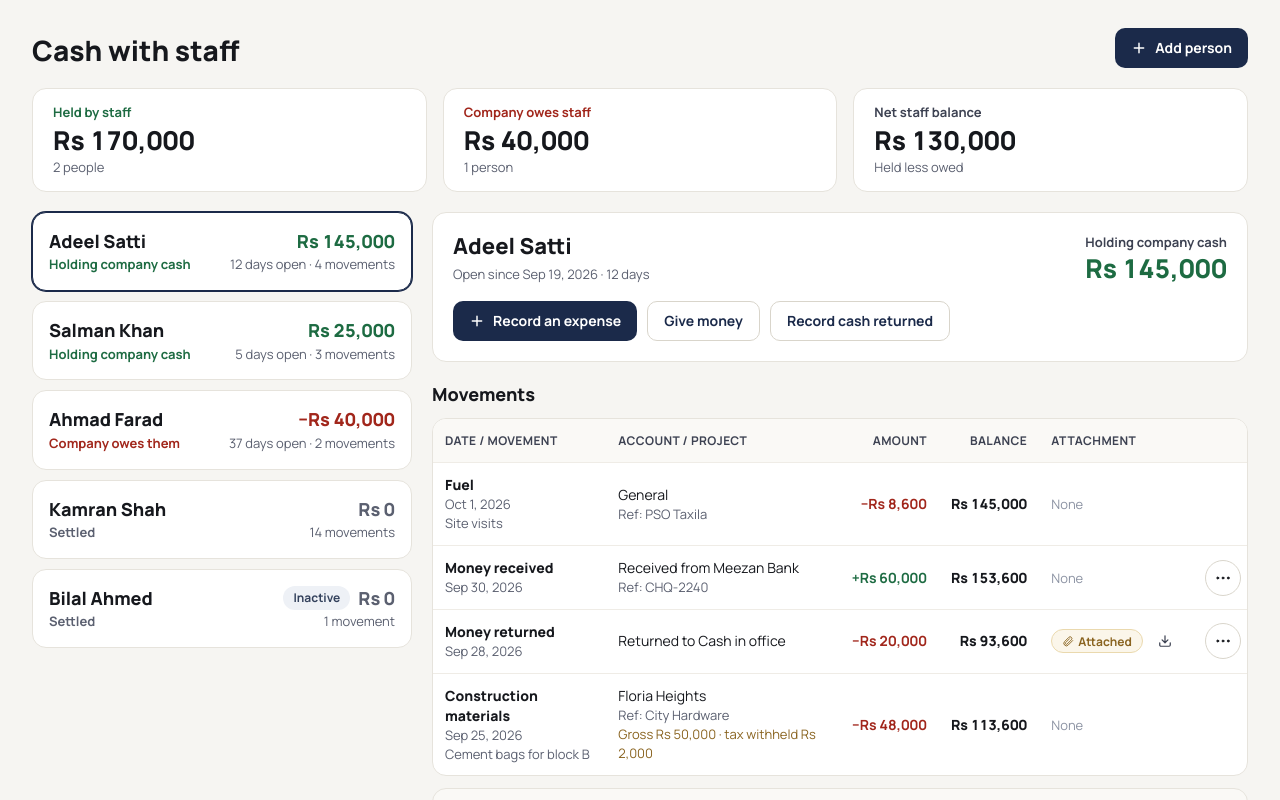
Scenario: Cash with staff: the open person › fills in what the person holds when cash comes back, and turns money moves off for an inactive person
Click the button "Record cash returned" at (860, 320), box [770,300,950,340]
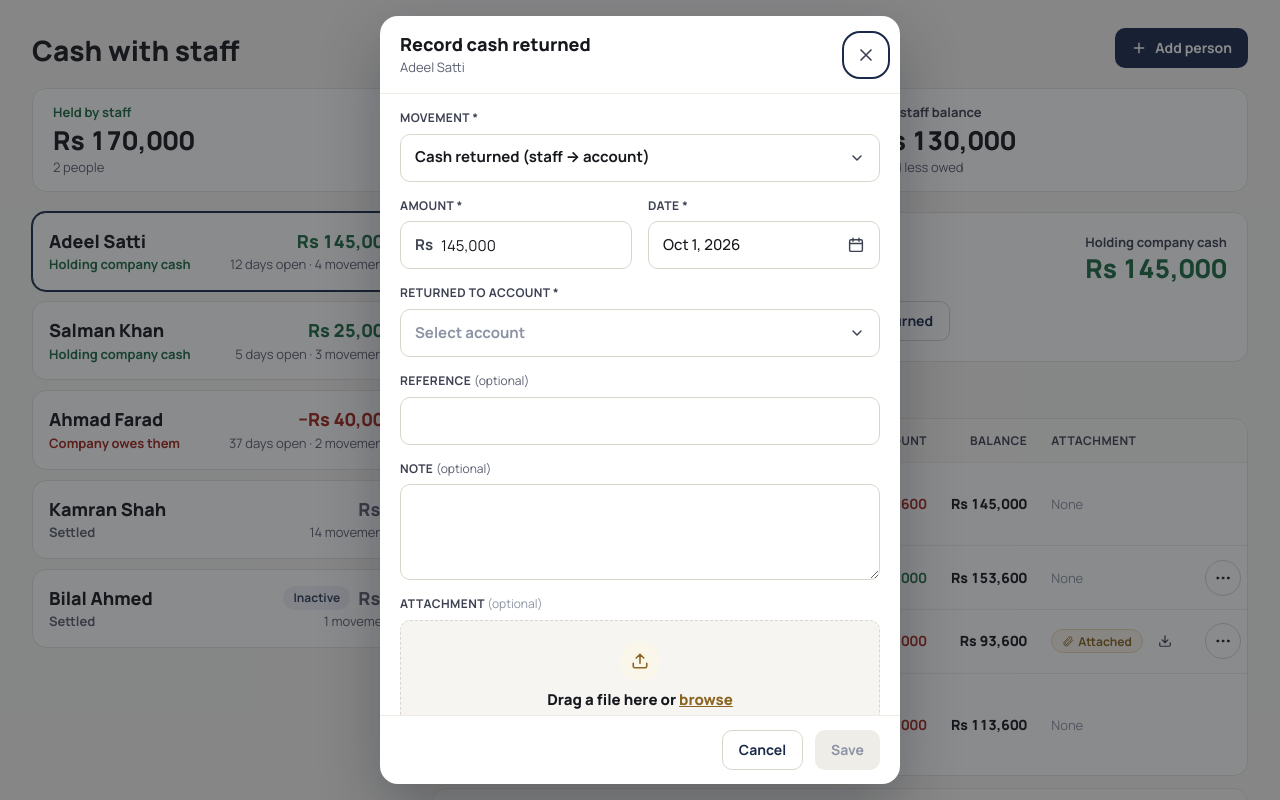
Expected: the text "Record cash returned" is shown, [400,32,591,56]
Expected: the field labelled "Amount *" holds "145,000", [441,222,617,268]
Expected: the dropdown named "Returned to account" is shown, [400,309,880,357]
Click the button "Cancel" at (763, 750), box [722,730,803,770]
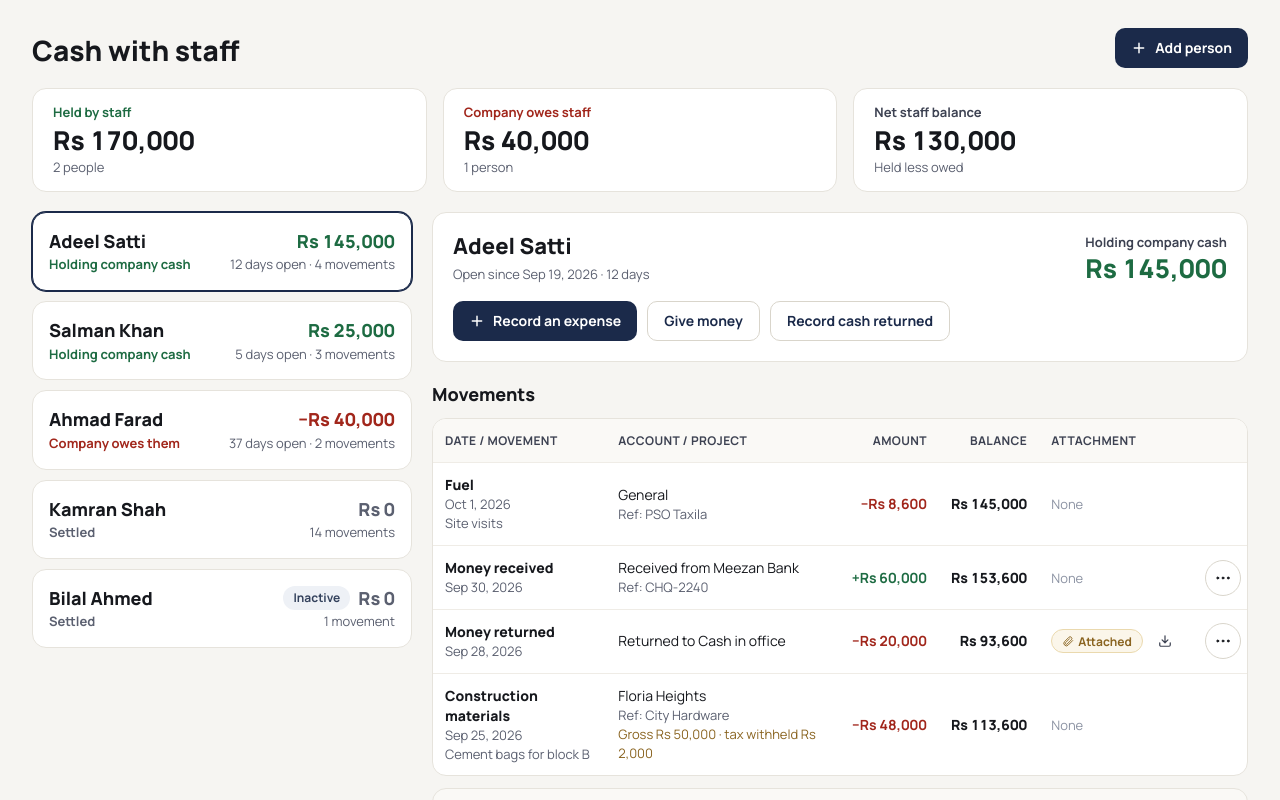
Click the button "Bilal Ahmed Inactive Rs 0 Settled 1 movement" at (101, 598), box [32,569,412,648]
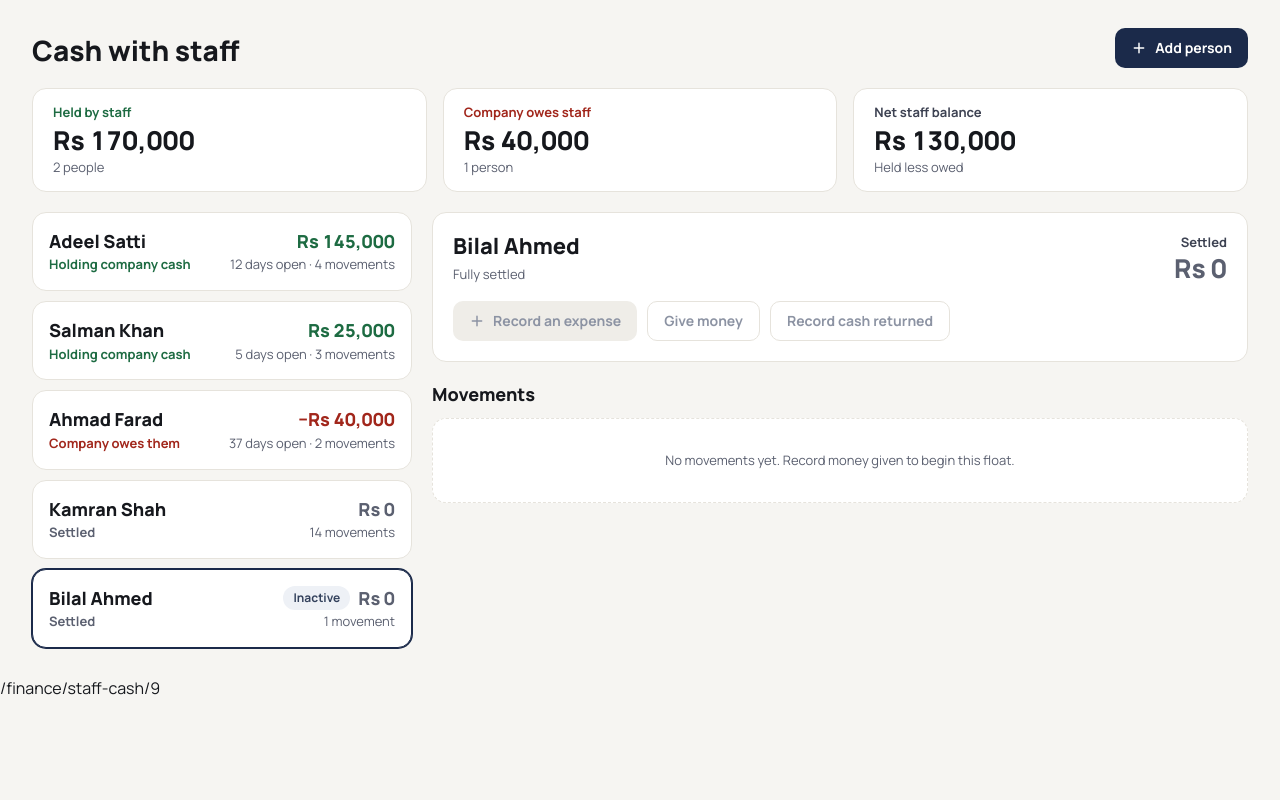
Expected: the text "Fully settled" is shown, [453,265,525,283]
Expected: the button "Record an expense" is disabled, [453,300,637,340]
Expected: the button "Give money" is disabled, [647,300,760,340]
